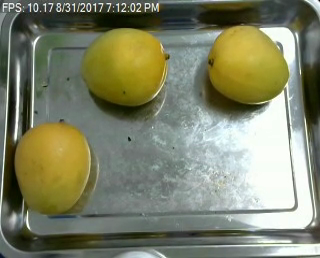Mango: (9, 118, 97, 217), (76, 23, 170, 106), (203, 21, 289, 107)
